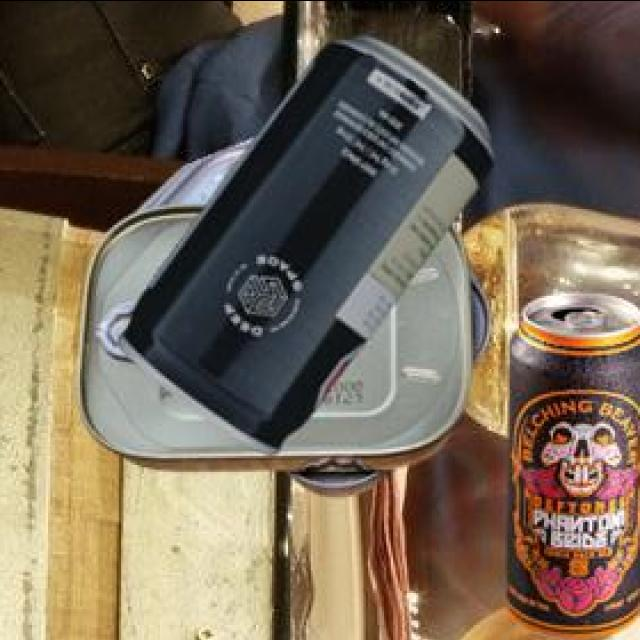logam: (122, 33, 497, 449), (81, 134, 493, 493), (509, 289, 640, 639)
